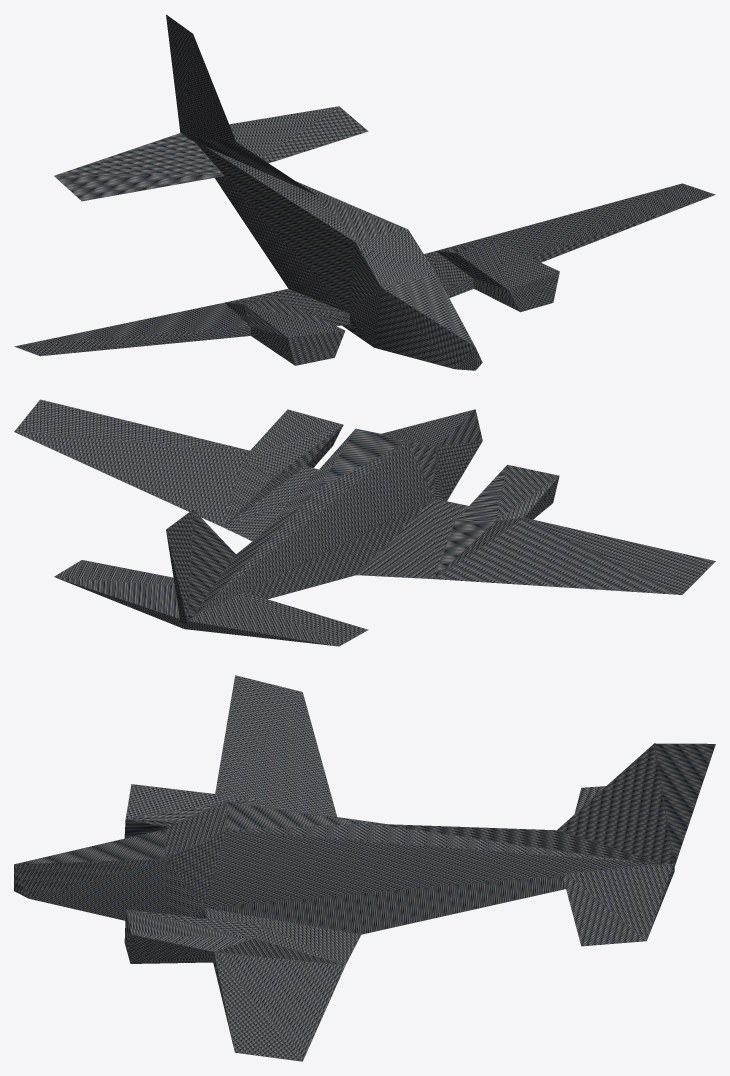
File: Baron_LOD06.gltf
The picture shows the model from 3 angles, top to bottom: view 1: azimuth 30°, elevation 25°; view 2: azimuth 150°, elevation 25°; view 3: azimuth 270°, elevation 25°; orthographic projection. The views are drawn at different scales.
Visible parts, largest first — view 1: lod6_G58_maya; view 2: lod6_G58_maya; view 3: lod6_G58_maya.
Part boxes in pixels (x1,y1,x2,y2): lod6_G58_maya: (14,14,715,370); lod6_G58_maya: (14,399,715,646); lod6_G58_maya: (14,675,715,1061).
Bounding box in the file's own units: 11.43 × 2.46 × 9.07.
